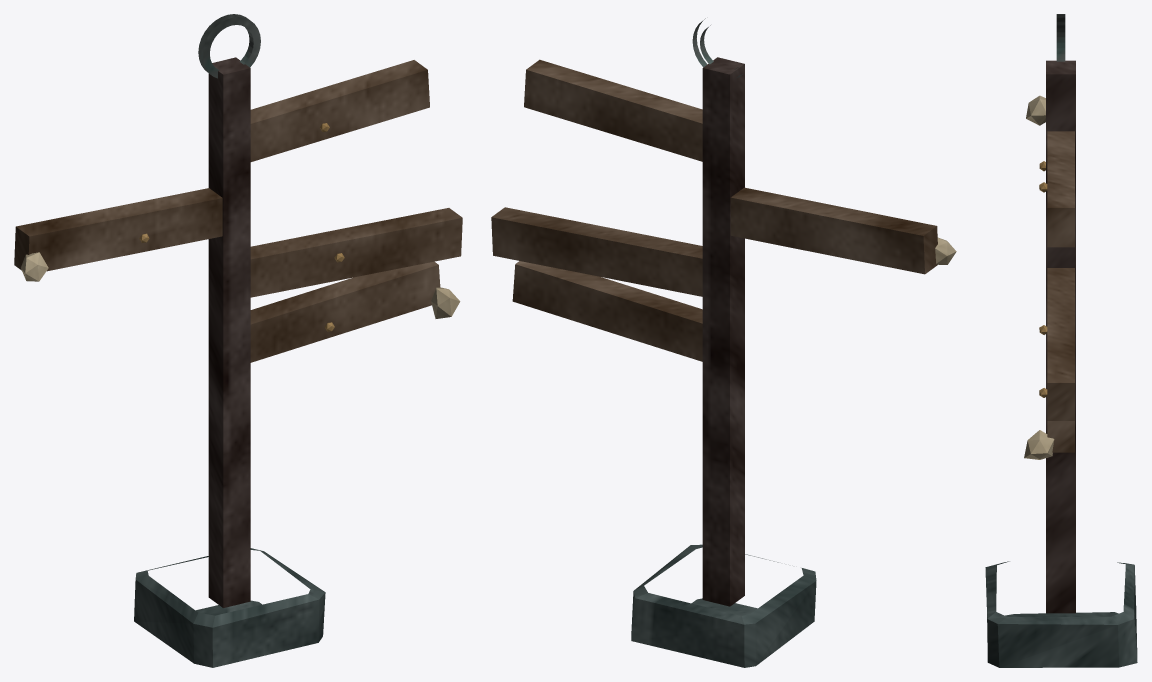
The model's file is 0638_signpost_13.glb.
3 renders of one model, left to right at view 1: azimuth 30°, elevation 25°; view 2: azimuth 150°, elevation 25°; view 3: azimuth 270°, elevation 25°, orthographic.
Parts seen in each view (by area): view 1: wood, wood_dark, stone_dark, iron, bone; view 2: wood, wood_dark, stone_dark; view 3: stone_dark, wood_dark, wood, bone, iron, brass.
Boxes of the visible parts, x1,y1,x2,y2 form: wood: (14,60,462,362); wood_dark: (208,57,250,607); stone_dark: (134,548,325,667); iron: (198,14,260,78); bone: (20,252,460,318); wood: (491,59,937,361); wood_dark: (702,57,744,606); stone_dark: (631,544,816,667); stone_dark: (985,561,1137,667); wood_dark: (1046,60,1075,613); wood: (1047,131,1074,452); bone: (1024,95,1054,459); iron: (1056,14,1065,61); brass: (1039,161,1047,397).
Bounding box in the file's own units: 2.44 × 3.22 × 0.7131.
6 materials, 6 textured.
